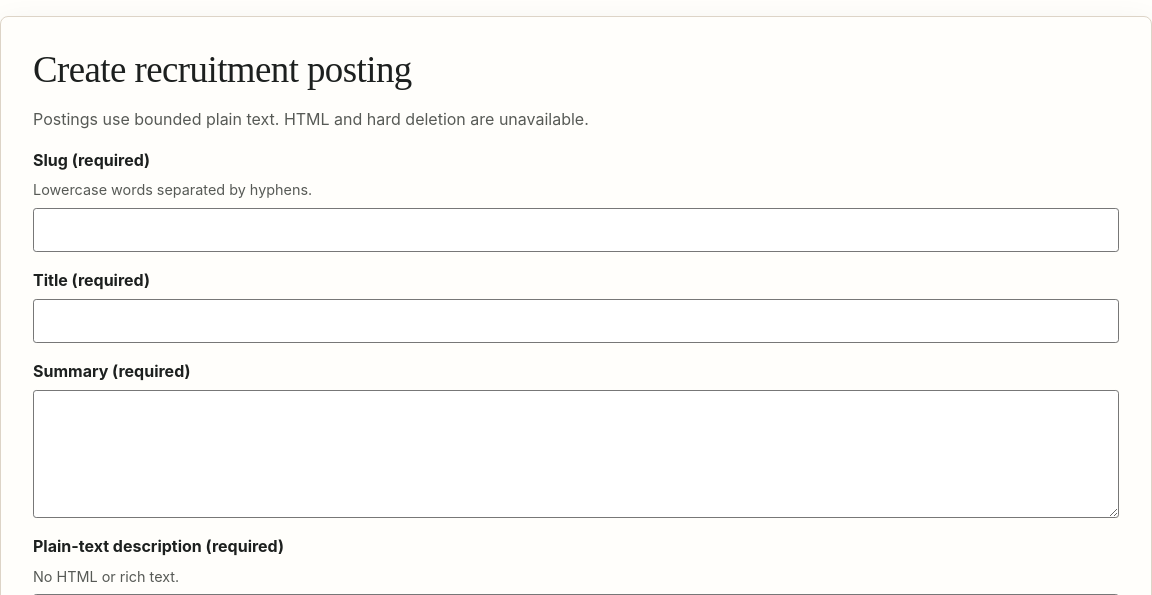
admin recruitment posting UI › creates bounded plain-text postings and prevents duplicate actions
Step 1. Type "synthetic-opportunity" into the field labelled "Slug (required)" → x=576, y=230, box [33,208,1119,252]
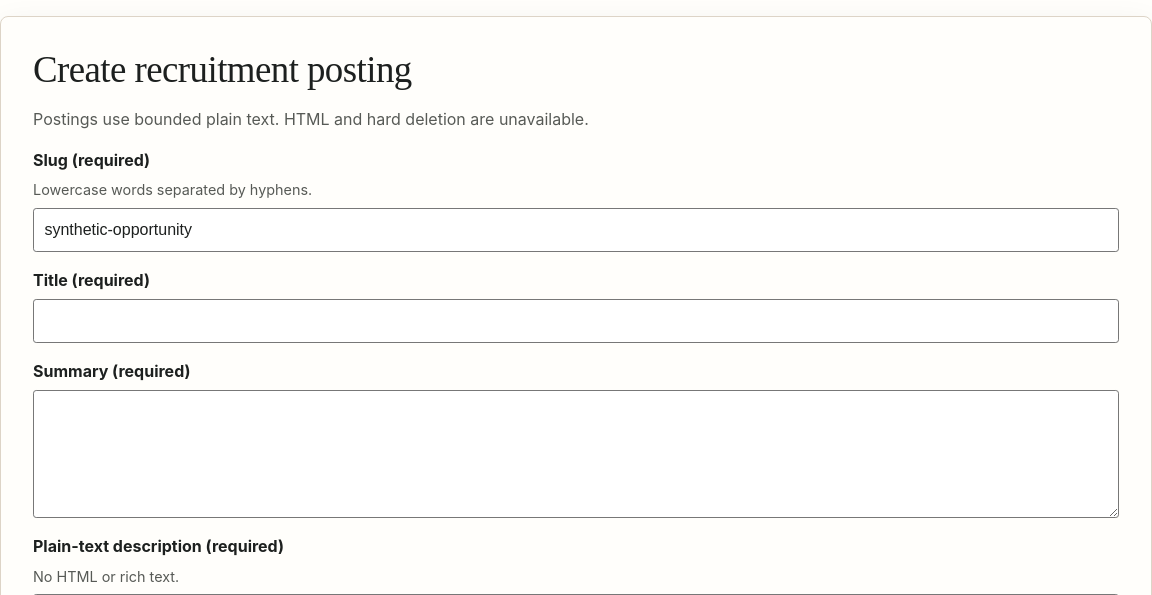
Step 2. Type "Synthetic opportunity" into the field labelled "Title (required)" → x=576, y=321, box [33,299,1119,343]
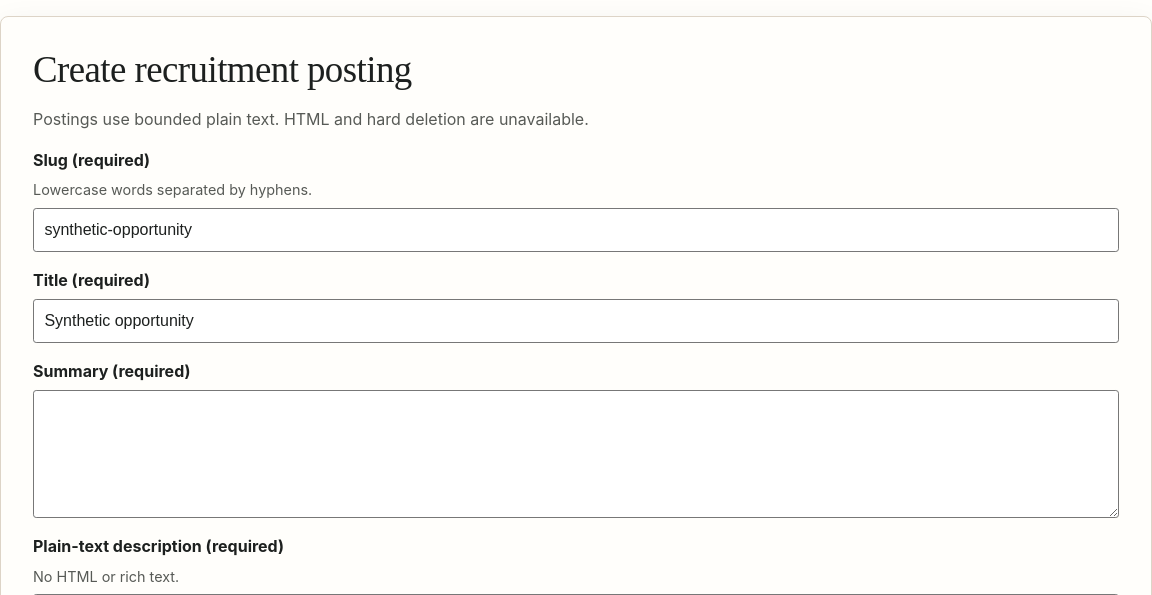
Step 3. Type "Synthetic summary" into the text box labelled "Summary (required)" → x=576, y=454, box [33,390,1119,518]
(page scrolled)
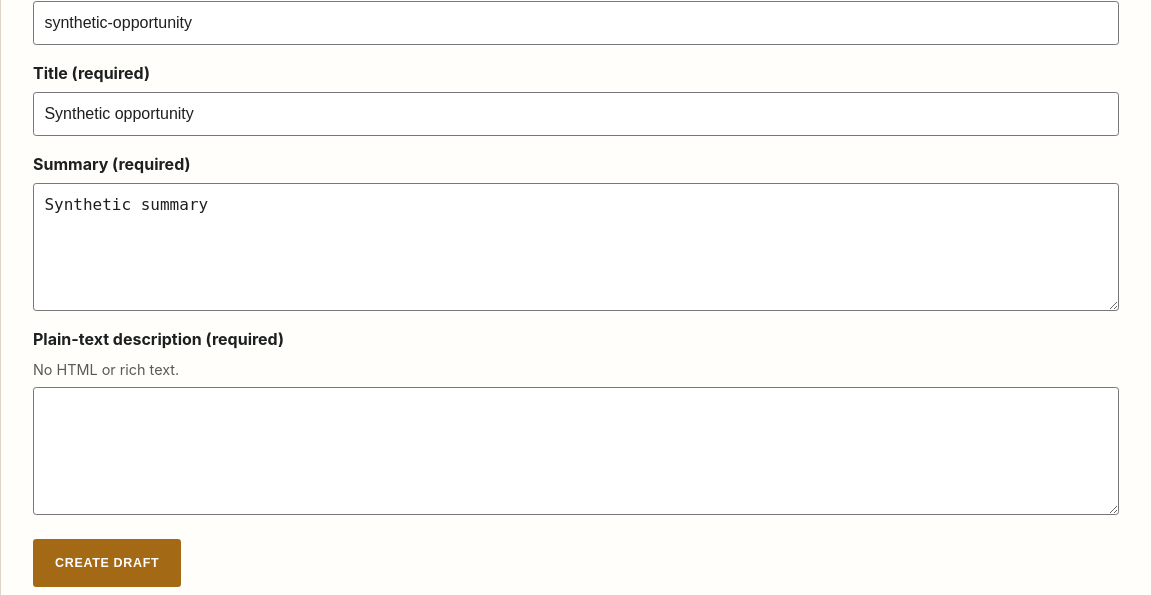
Step 4. Type "Synthetic plain-text body" into the text box labelled "Plain-text description (required)" → x=576, y=451, box [33,387,1119,515]
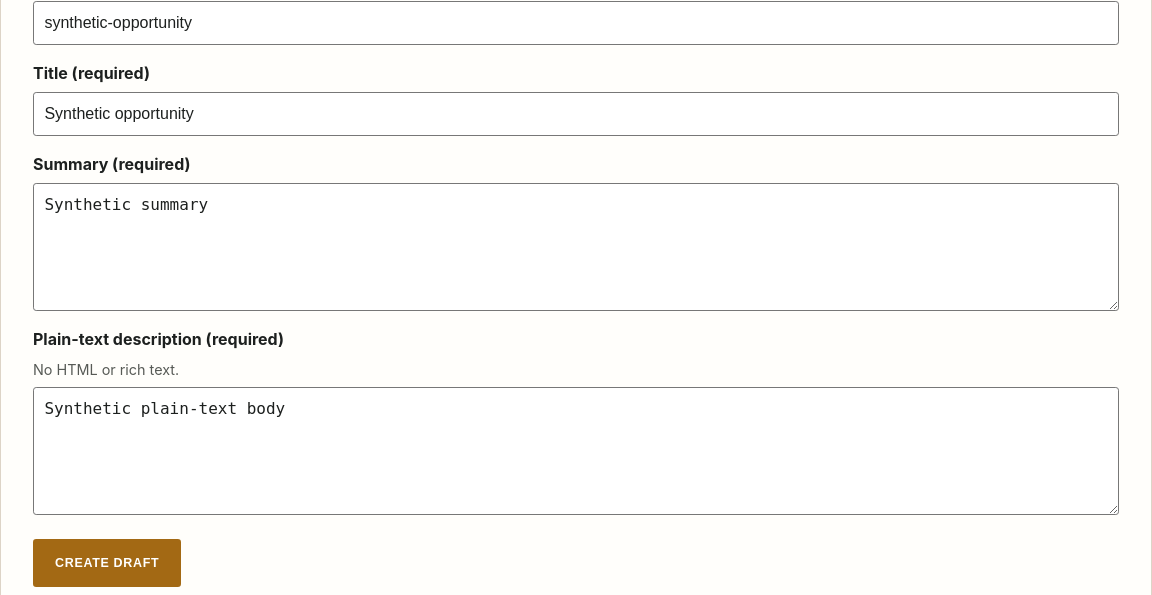
Step 5. Click the button "Create draft" → x=107, y=563, box [33,539,181,587]
(page scrolled)
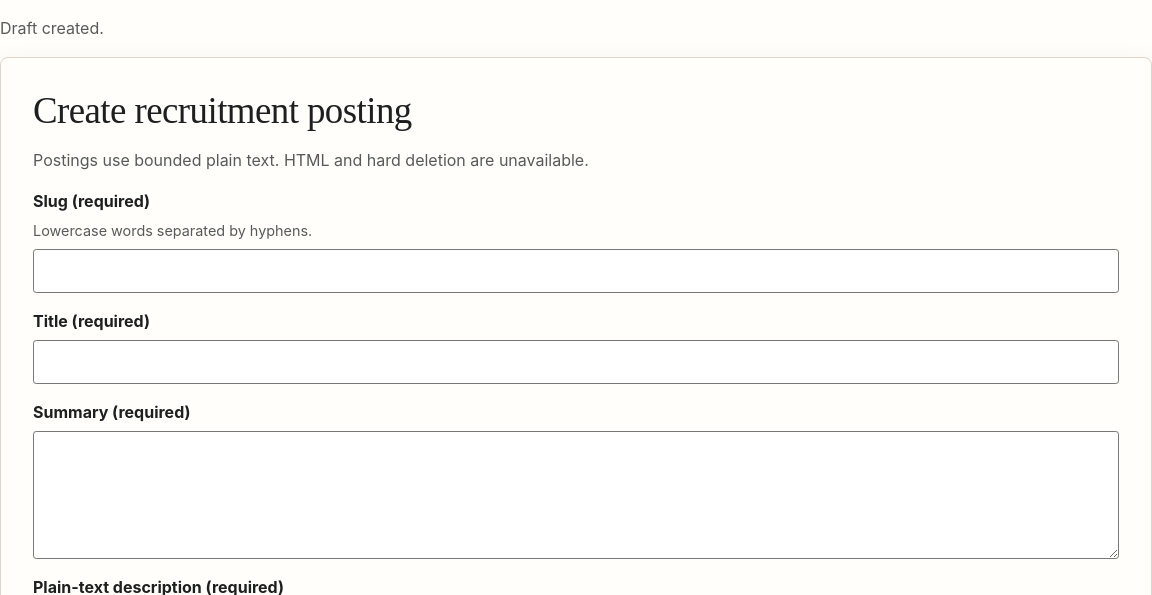
Check: the message shows "Draft created", box [0,18,104,38]
